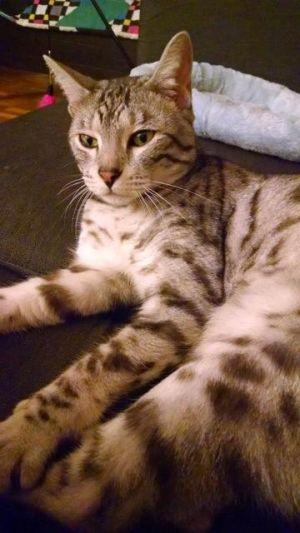bengal: (40, 27, 209, 216)
